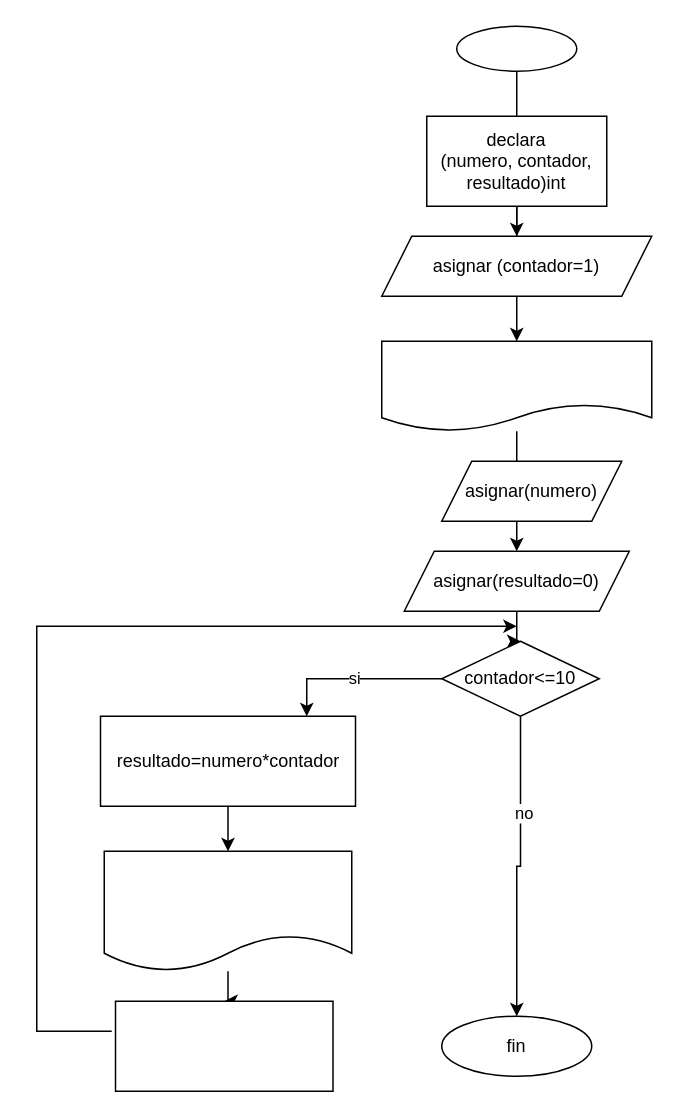
Some shapes in this 678 by 1118 pixel diagram are drawn without their labels. Here are the shapes that lost their labels. From the top down, the centre of each, then its label:
[516,48]: inicio
[516,385]: "Ingresa numero para tabla de multiplicar"
[227,910]: numero*contador=resultado
[223,1045]: contador=contador+1
